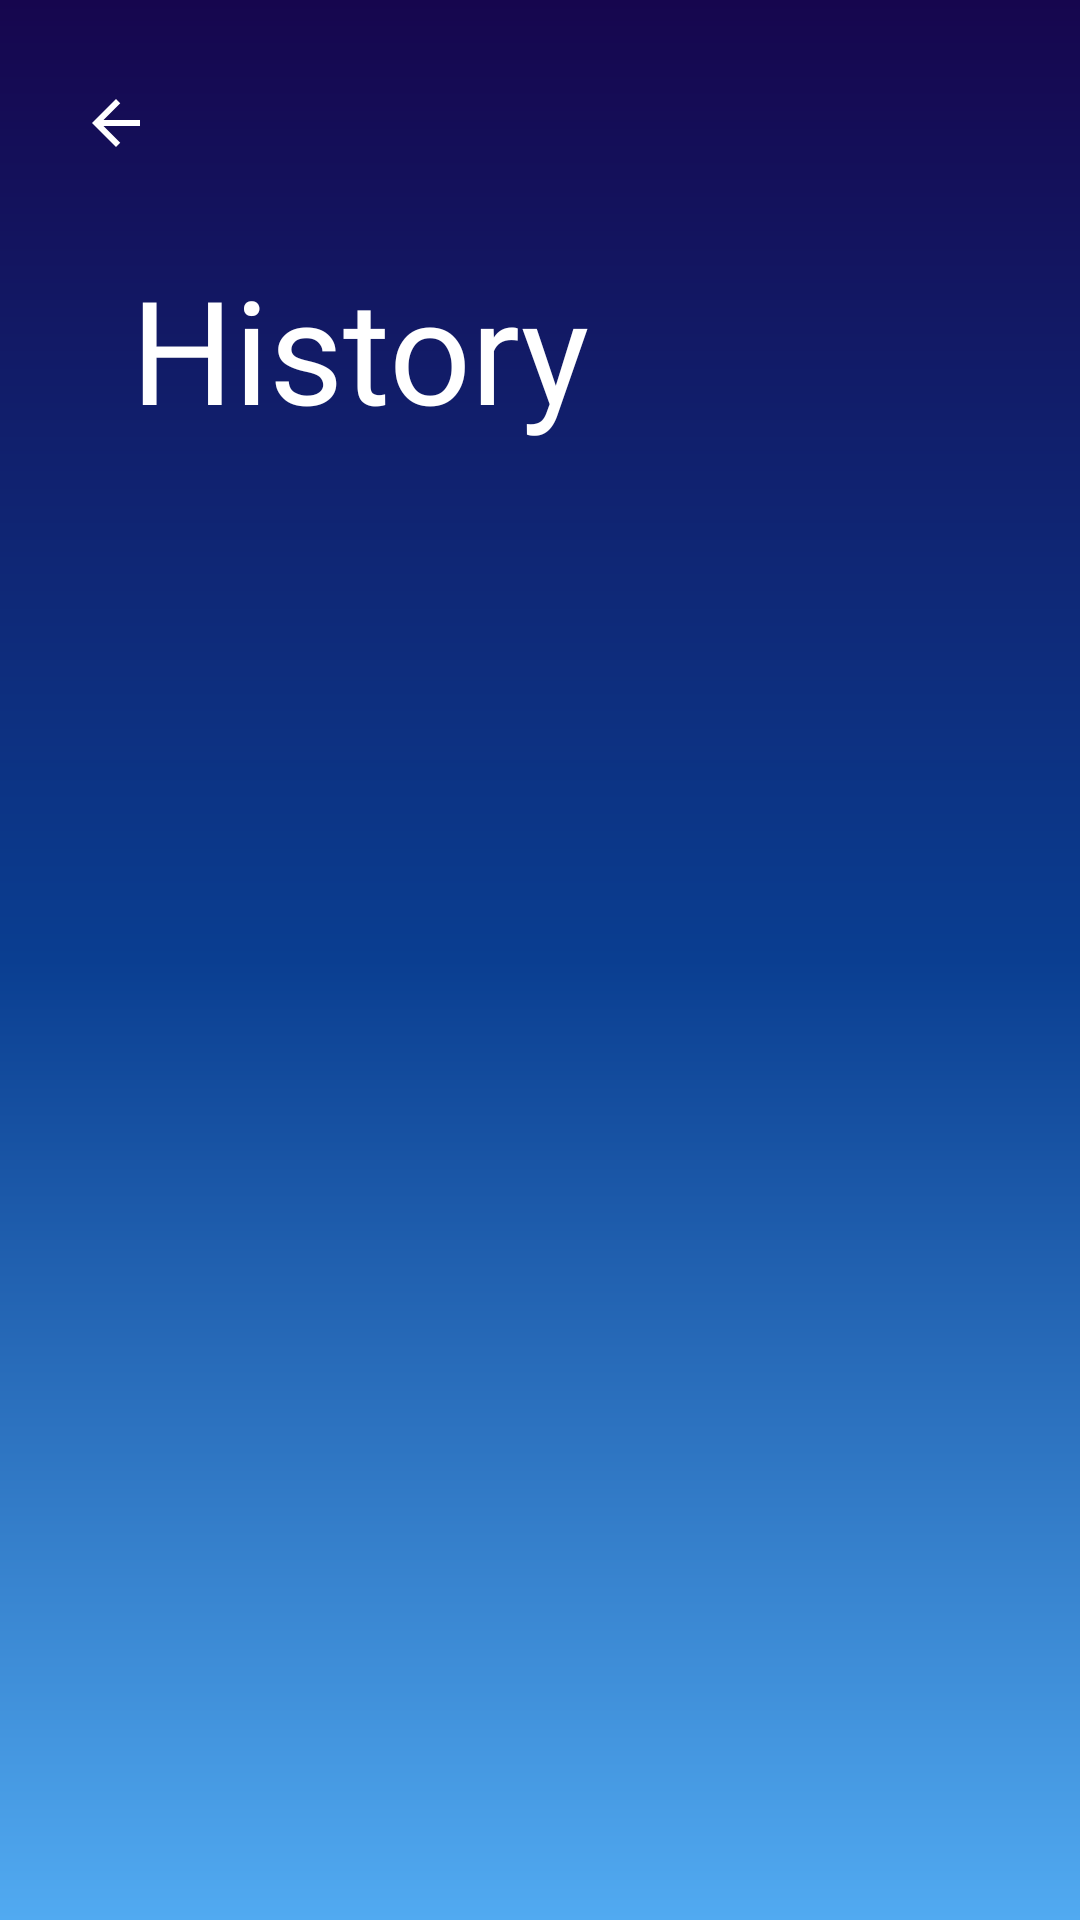

Named icons in this screenshot (1080px x 1920px) and their bounding boxes, bbox(x1, y1, x2, y2):
arrow back: bbox(92, 99, 140, 147)
